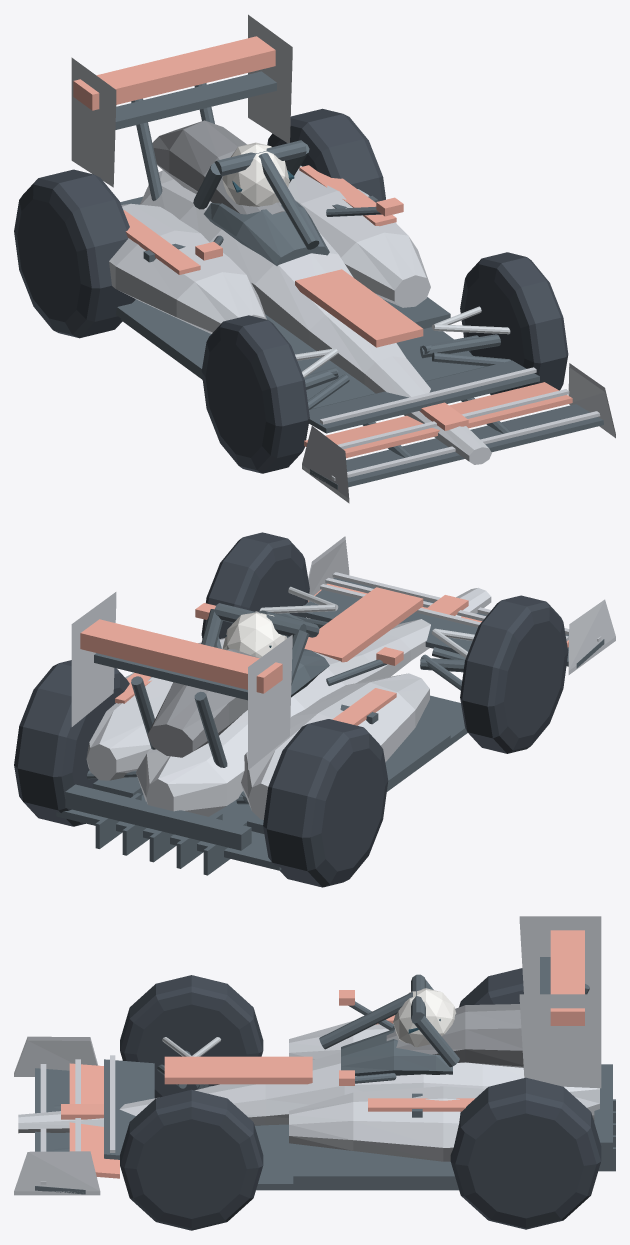
Rendered from kia_mobile.glb.
3 renders of one model, top to bottom at view 1: azimuth 30°, elevation 25°; view 2: azimuth 150°, elevation 25°; view 3: azimuth 270°, elevation 25°, orthographic. The views are drawn at different scales.
Visible parts, largest first — view 1: BODY_paint, BODY_carbon, BODY_accent, RearLeftWheel_rubber, FrontLeftWheel_rubber, FrontRightWheel_rubber, RearRightWheel_rubber, BODY_paint_dark, BODY_helmet, BODY_metal; view 2: BODY_paint, BODY_carbon, RearLeftWheel_rubber, BODY_accent, FrontLeftWheel_rubber, RearRightWheel_rubber, FrontRightWheel_rubber, BODY_paint_dark, BODY_helmet, BODY_metal; view 3: BODY_paint, BODY_carbon, RearRightWheel_rubber, FrontRightWheel_rubber, BODY_accent, FrontLeftWheel_rubber, BODY_paint_dark, BODY_helmet, RearLeftWheel_rubber.
Part boxes in pixels (<box>): BODY_paint: <box>71,14,615,503</box>; BODY_carbon: <box>115,71,603,489</box>; BODY_accent: <box>73,36,572,458</box>; RearLeftWheel_rubber: <box>14,169,135,338</box>; FrontLeftWheel_rubber: <box>201,315,309,473</box>; FrontRightWheel_rubber: <box>460,252,568,394</box>; RearRightWheel_rubber: <box>267,108,385,201</box>; BODY_paint_dark: <box>152,120,284,214</box>; BODY_helmet: <box>222,142,289,206</box>; BODY_metal: <box>295,306,510,377</box>; BODY_paint: <box>71,536,615,819</box>; BODY_carbon: <box>56,578,604,875</box>; RearLeftWheel_rubber: <box>263,719,388,887</box>; BODY_accent: <box>80,583,568,725</box>; FrontLeftWheel_rubber: <box>460,595,568,753</box>; RearRightWheel_rubber: <box>14,660,129,826</box>; FrontRightWheel_rubber: <box>201,532,309,638</box>; BODY_paint_dark: <box>147,649,259,757</box>; BODY_helmet: <box>222,611,286,657</box>; BODY_metal: <box>259,586,474,658</box>; BODY_paint: <box>14,916,601,1195</box>; BODY_carbon: <box>35,957,615,1194</box>; RearRightWheel_rubber: <box>450,1077,601,1229</box>; FrontRightWheel_rubber: <box>120,1089,263,1230</box>; BODY_accent: <box>61,930,584,1178</box>; FrontLeftWheel_rubber: <box>120,975,263,1098</box>; BODY_paint_dark: <box>386,1004,523,1067</box>; BODY_helmet: <box>393,988,456,1047</box>; RearLeftWheel_rubber: <box>459,968,523,1007</box>.
Bounding box in the file's own units: 2.59 × 1.9 × 4.88.
